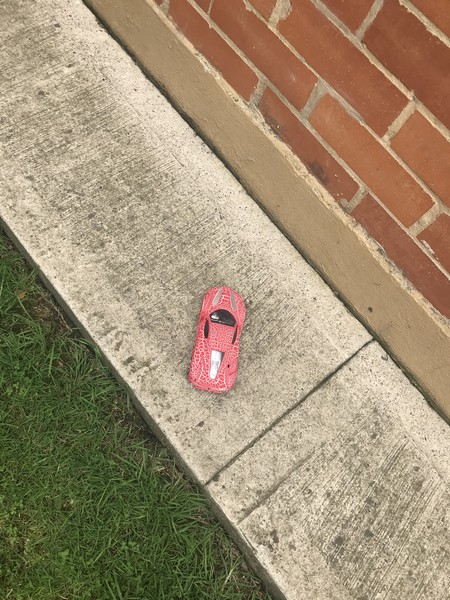RC: (183, 285, 251, 394)
